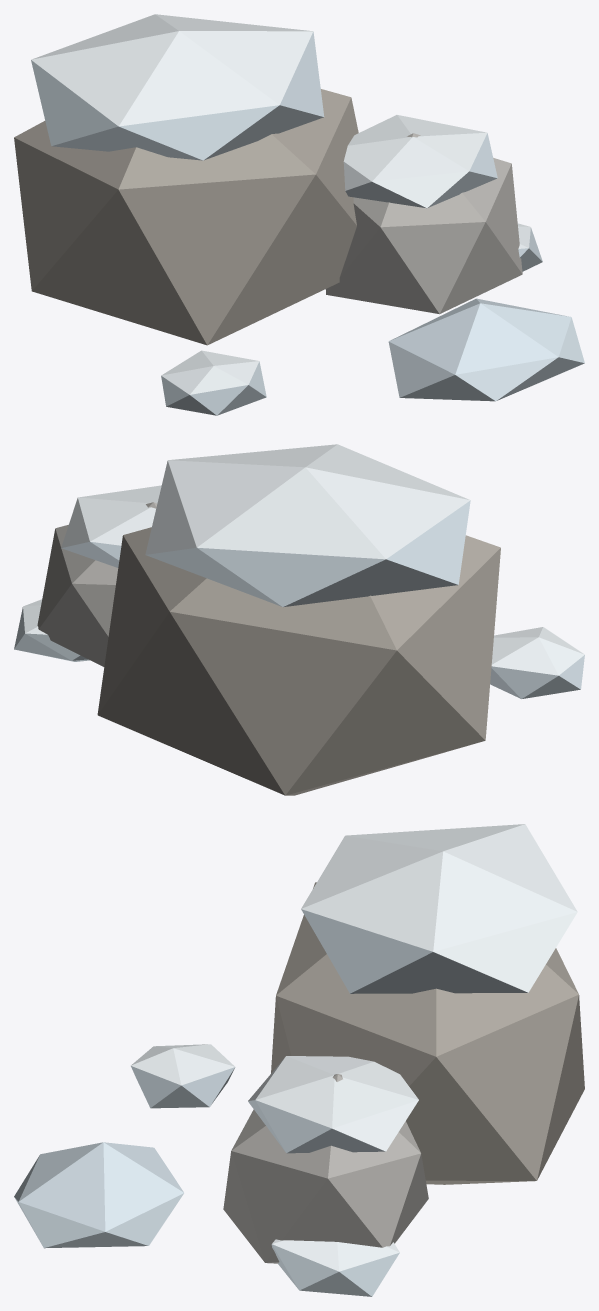
Rendered from rock_cluster_snow_small.glb.
3 renders of one model, top to bottom at view 1: azimuth 30°, elevation 25°; view 2: azimuth 150°, elevation 25°; view 3: azimuth 270°, elevation 25°, orthographic. The views are drawn at different scales.
Visible parts, largest first — view 1: rock_cluster_snow_small; view 2: rock_cluster_snow_small; view 3: rock_cluster_snow_small.
Part boxes in pixels (left/top/right/bottom): rock_cluster_snow_small: left=14, top=14, right=584, bottom=415; rock_cluster_snow_small: left=14, top=444, right=584, bottom=795; rock_cluster_snow_small: left=14, top=824, right=584, bottom=1296.
Bounding box in the file's own units: 0.8856 × 0.5524 × 0.8697.
